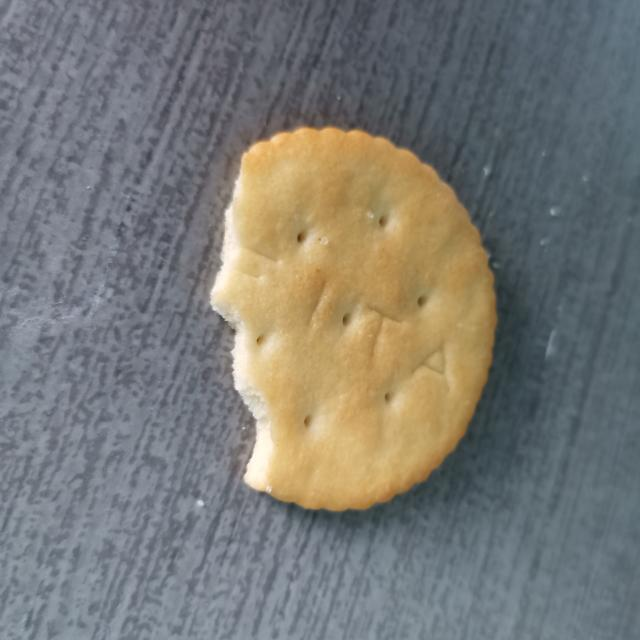Broken: (209, 124, 499, 513)
